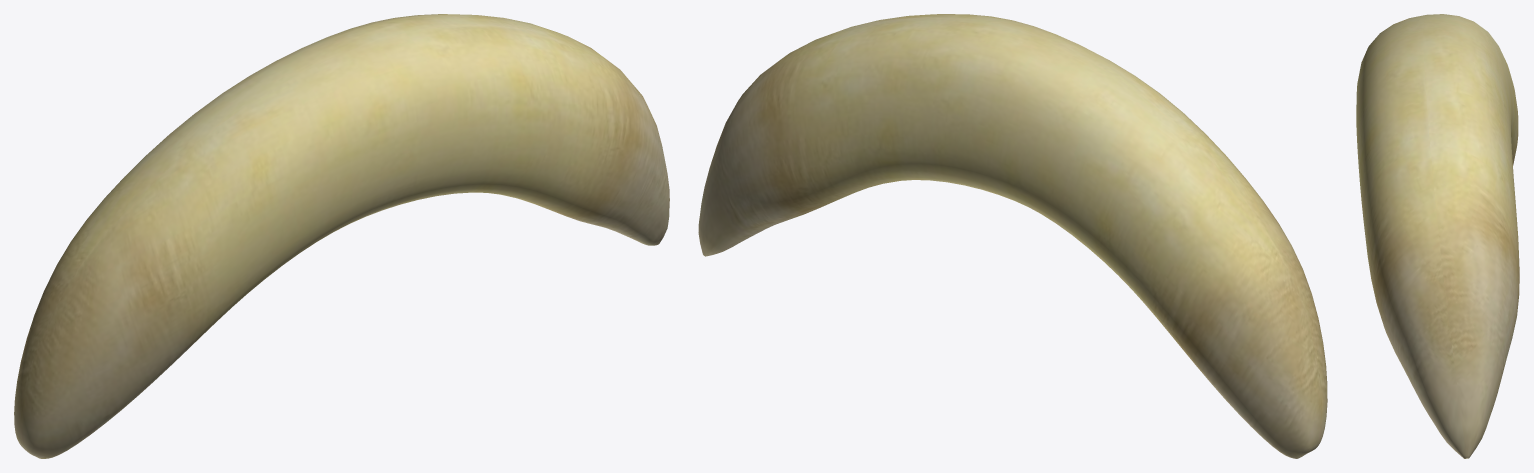
The model's file is GreenBananaEndocarp.obj.
The picture shows the model from 3 angles, left to right: view 1: azimuth 30°, elevation 25°; view 2: azimuth 150°, elevation 25°; view 3: azimuth 270°, elevation 25°; orthographic projection. The views are drawn at different scales.
Visible parts, largest first — view 1: GreenBananaEndocarp; view 2: GreenBananaEndocarp; view 3: GreenBananaEndocarp.
Part boxes in pixels (<box>): GreenBananaEndocarp: <box>14,14,669,458</box>; GreenBananaEndocarp: <box>698,14,1327,458</box>; GreenBananaEndocarp: <box>1356,14,1519,458</box>.
Size of the model in its own units: 0.1782 by 0.094 by 0.0414.
Materials: 1 (1 with a texture image).
